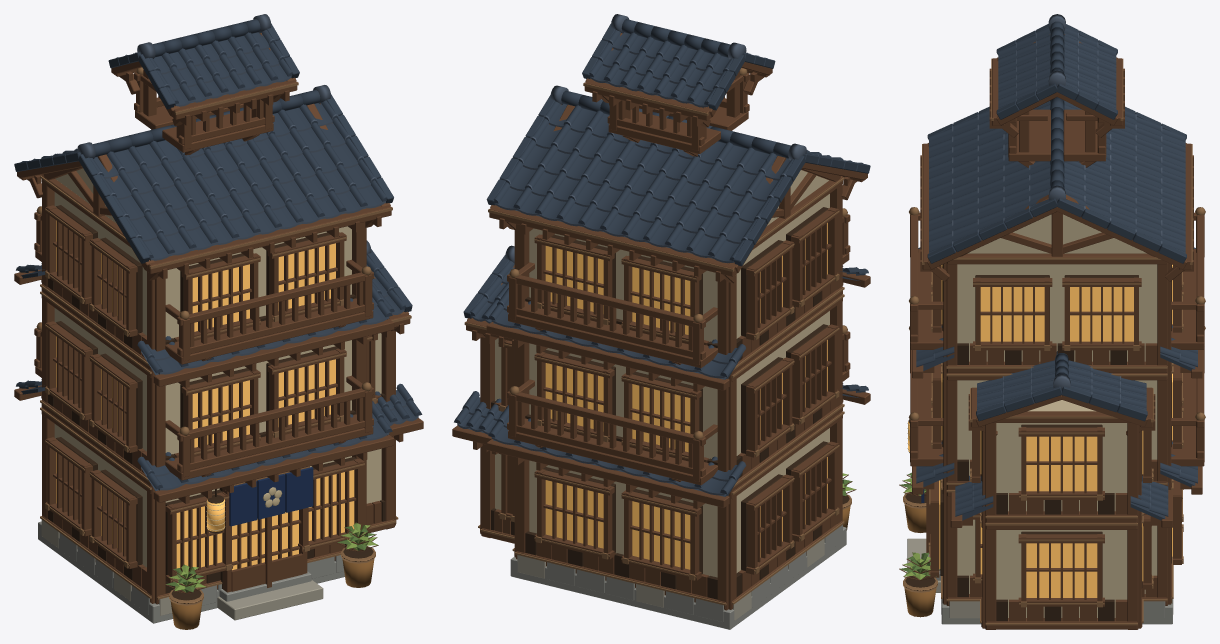
3 views of the same model, side by side, from view 1: azimuth 30°, elevation 25°; view 2: azimuth 150°, elevation 25°; view 3: azimuth 270°, elevation 25° (orthographic).
Parts seen in each view (by area): view 1: compact_tower_3_geometry; view 2: compact_tower_3_geometry; view 3: compact_tower_3_geometry.
Boxes of the visible parts, x1,y1,x2,y2 form: compact_tower_3_geometry: (14, 14, 423, 629); compact_tower_3_geometry: (452, 14, 870, 629); compact_tower_3_geometry: (899, 14, 1205, 629).
Bounding box in the file's own units: 0.9365 × 1.6 × 0.8447.
